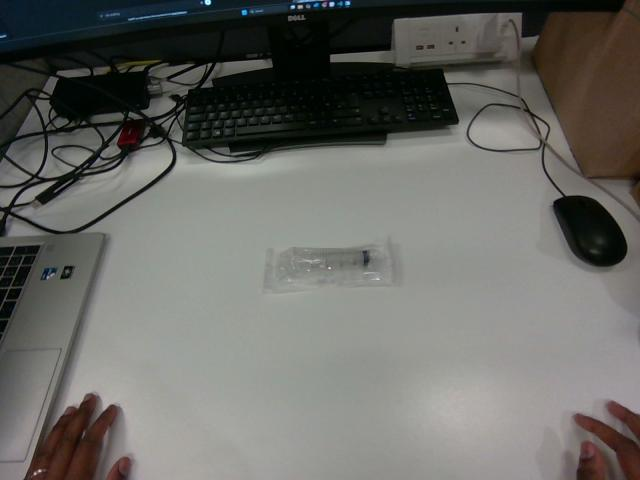syringe: (264, 238, 392, 292)
